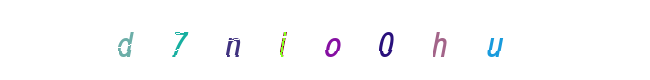0: (287, 0, 367, 80)
7: (242, 0, 322, 80)
D: (140, 0, 220, 80)
H: (316, 0, 396, 80)
I: (284, 0, 364, 80)
N: (282, 0, 362, 80)
O: (285, 0, 365, 80)
U: (349, 0, 429, 80)
